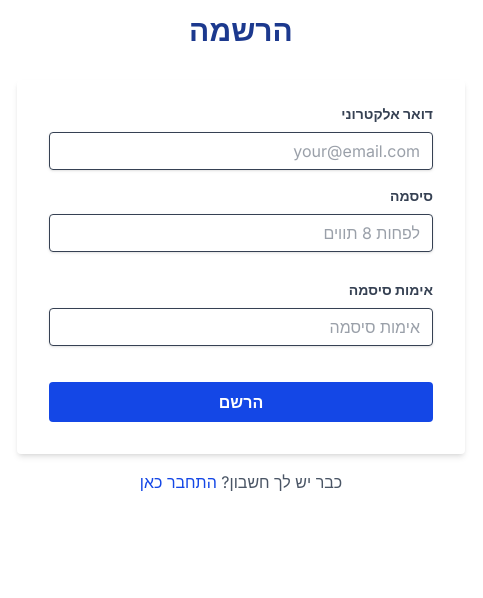
Signup Page › submits form with valid data
// Fill form with valid data
Type "test@example.com" into the field labelled "דואר אלקטרוני".
click(241, 151); type("test@example.com")  # box [49,132,433,170]
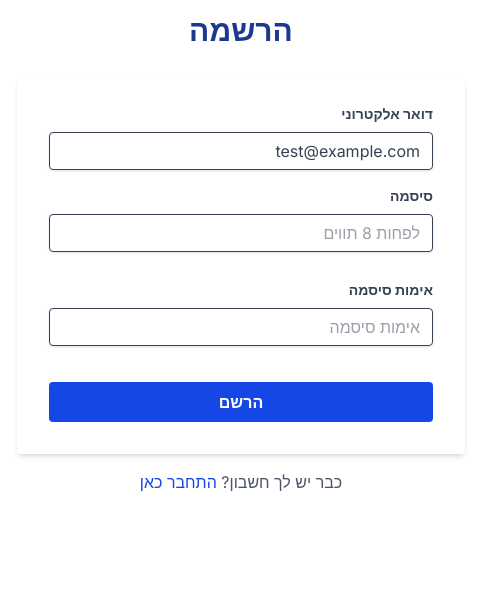
Type "password123" into the password field labelled "סיסמה".
click(241, 233); type("password123")  # box [49,214,433,252]
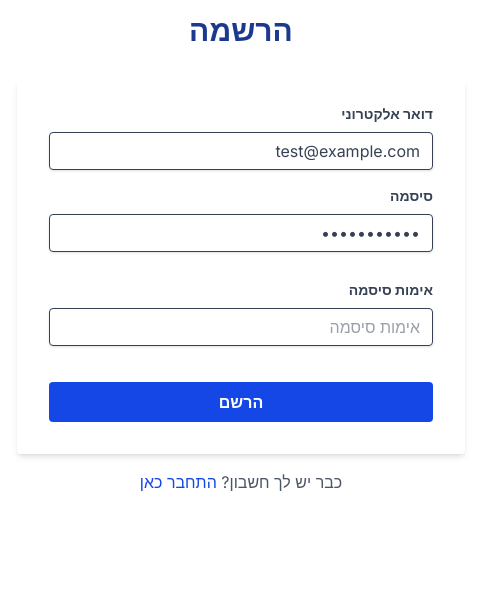
Type "password123" into the password field labelled "אימות סיסמה".
click(241, 327); type("password123")  # box [49,308,433,346]
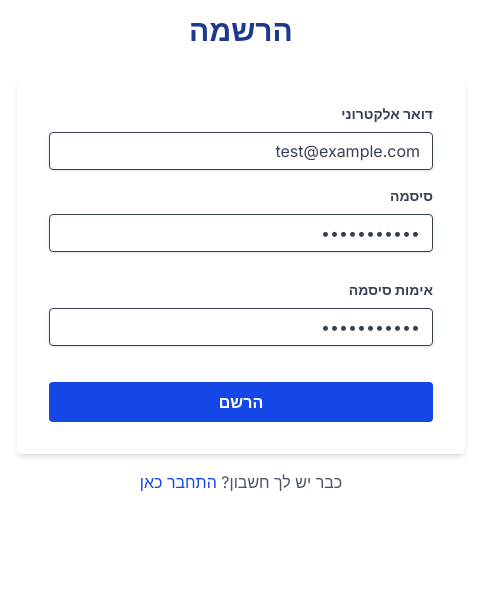
// Submit form
Click the button "הרשם".
click(241, 402)  # box [49,382,433,422]
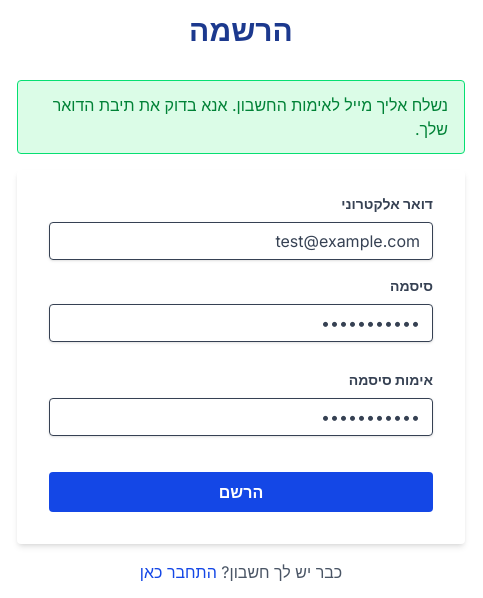
Result: the text "נשלח אליך מייל לאימות החשבון. אנא בדוק את תיבת הדואר שלך." is shown at [53,95,448,139]
